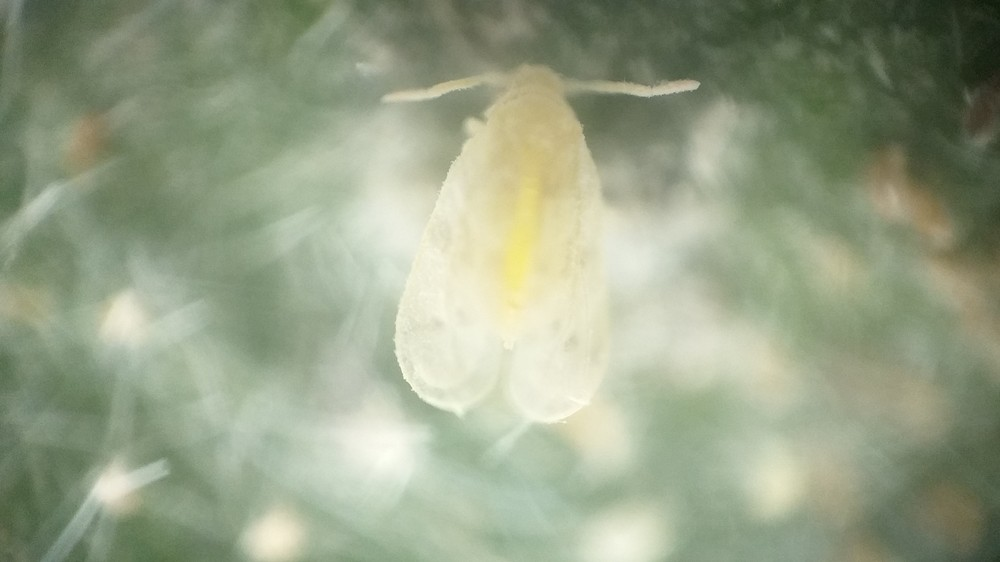Mosca Blanca: (360, 51, 710, 433)
